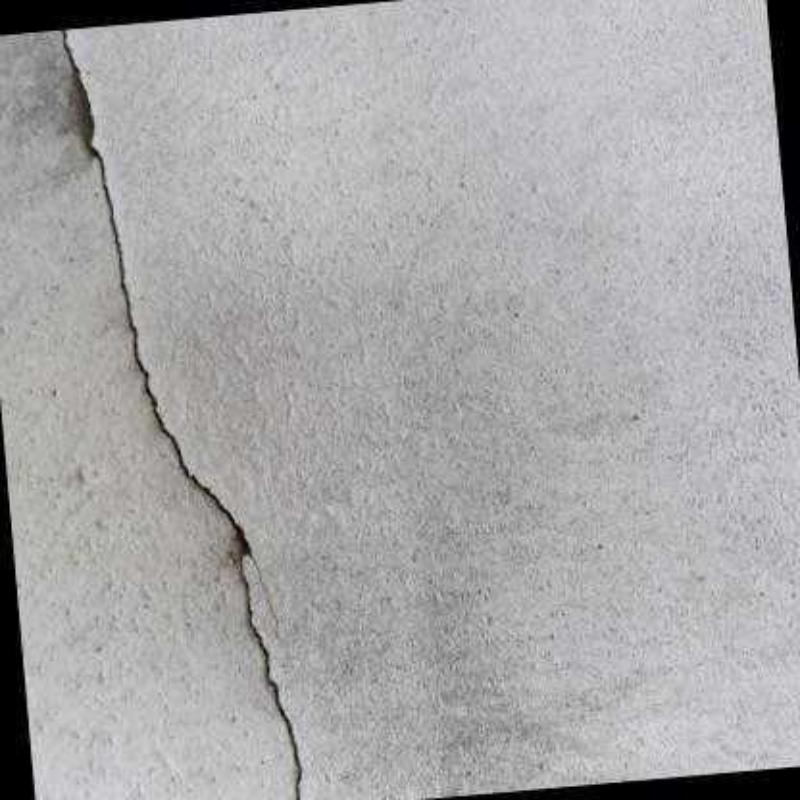pothole: (59, 28, 301, 798), (252, 558, 279, 638)
